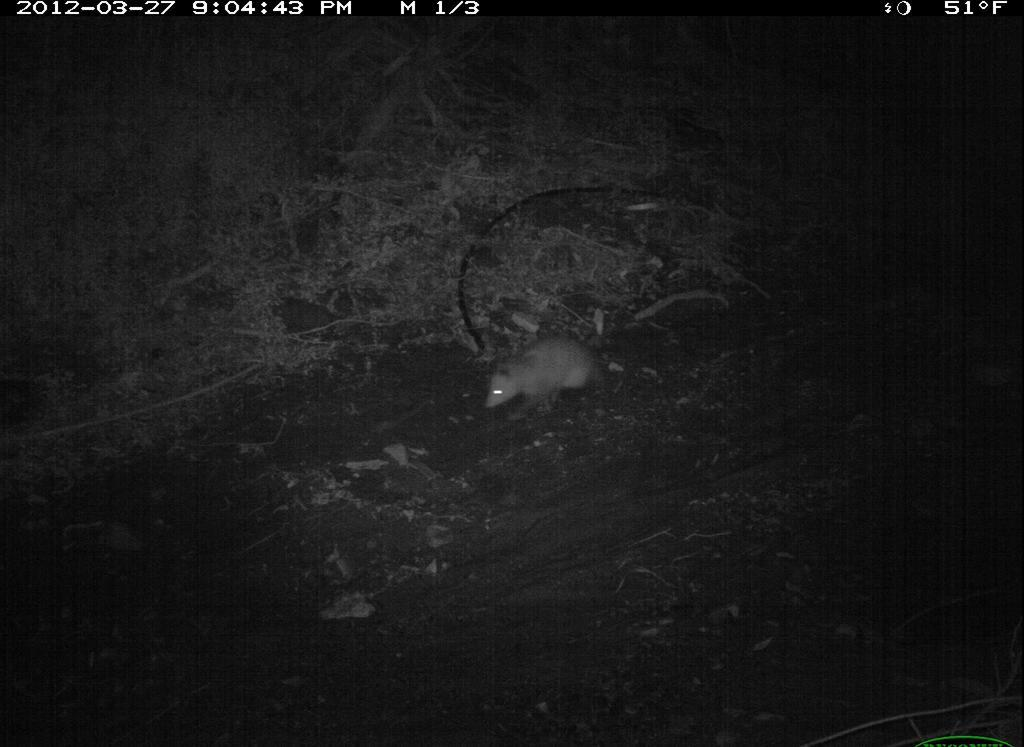opossum: (482, 334, 617, 425)
